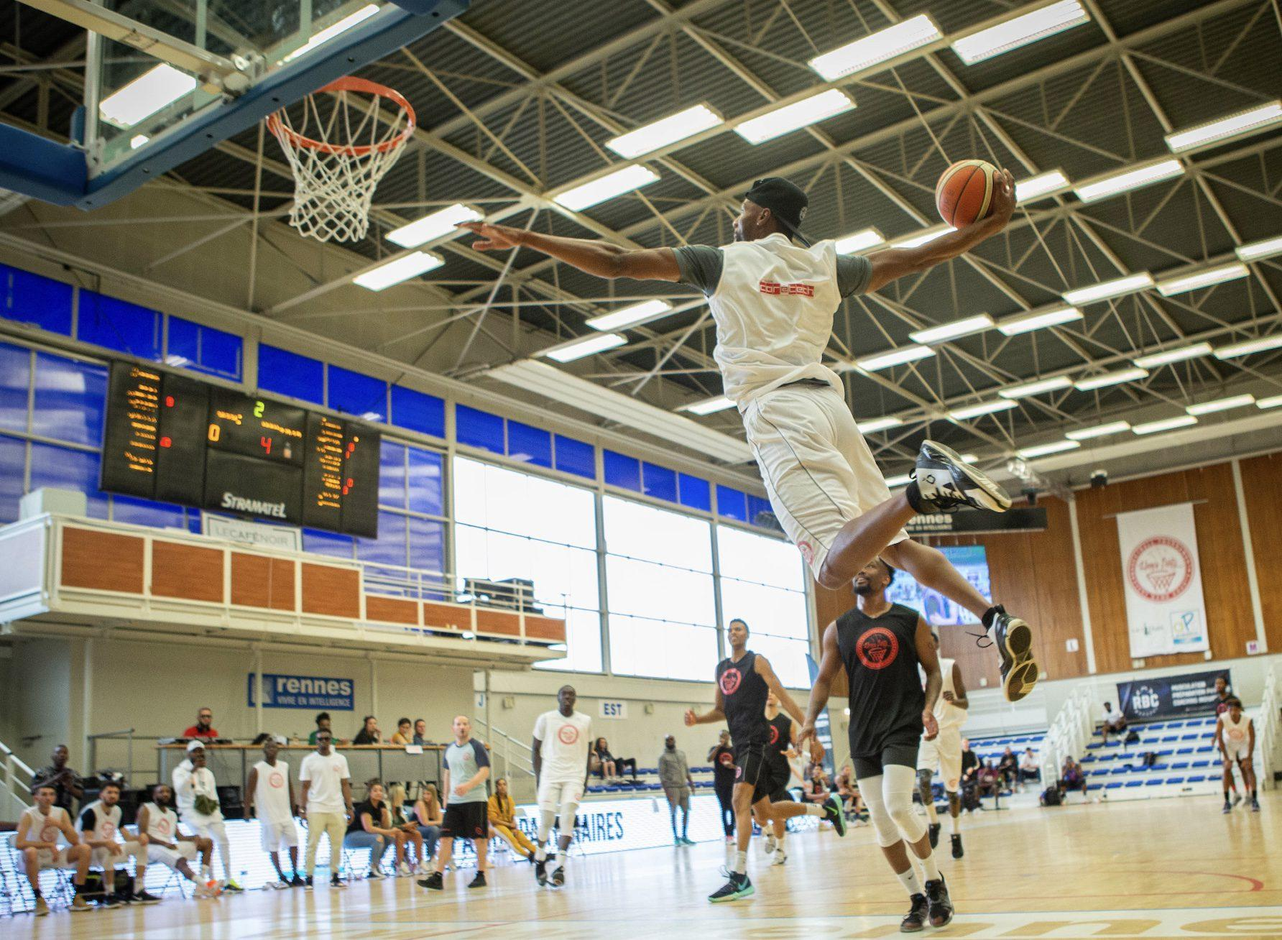basketball: (939, 157, 1006, 224)
